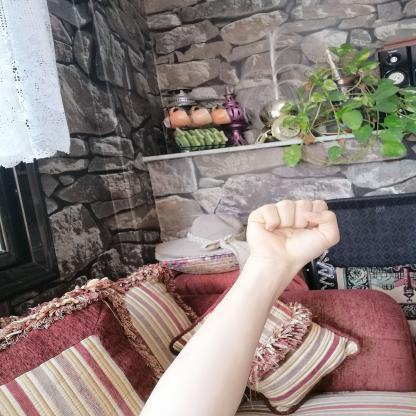SAD: (232, 192, 350, 272)
